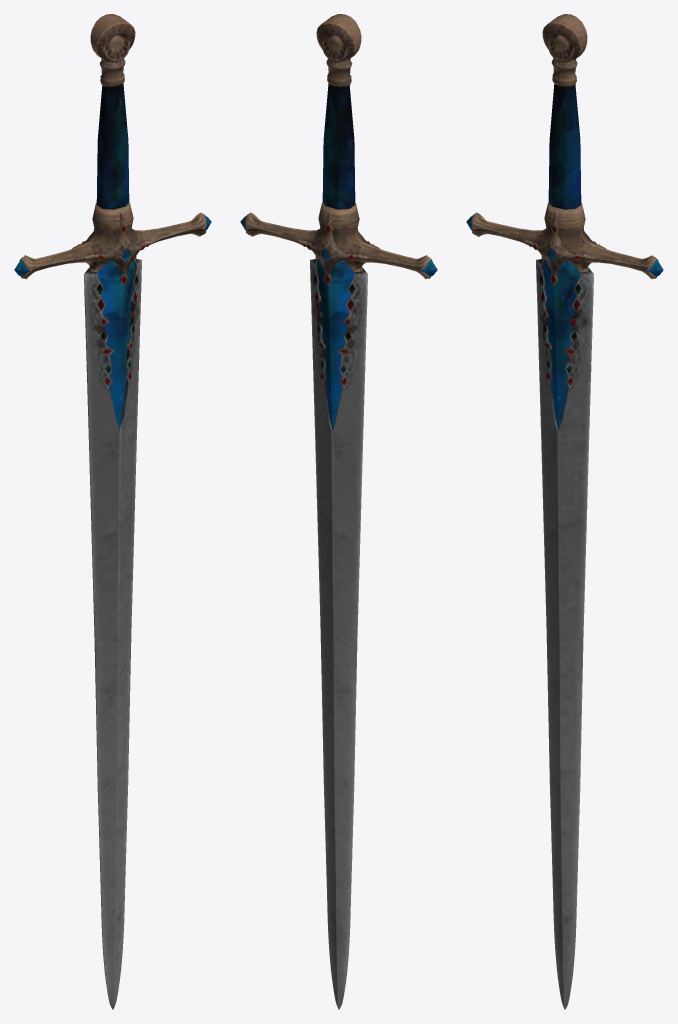
File: weapon-wp_a_0227.glb
3 views of the same model, side by side, from view 1: azimuth 30°, elevation 25°; view 2: azimuth 150°, elevation 25°; view 3: azimuth 330°, elevation 25° (orthographic).
Visible parts, largest first — view 1: wp_a_0227_mesh; view 2: wp_a_0227_mesh; view 3: wp_a_0227_mesh.
Boxes of the visible parts, box(x1,y1,x2,y2) form: wp_a_0227_mesh: box(14, 14, 211, 1009); wp_a_0227_mesh: box(240, 14, 437, 1009); wp_a_0227_mesh: box(466, 14, 663, 1009).
Size of the model in its own units: 0.2399 by 1.15 by 0.0665.
2 materials, 2 textured.
